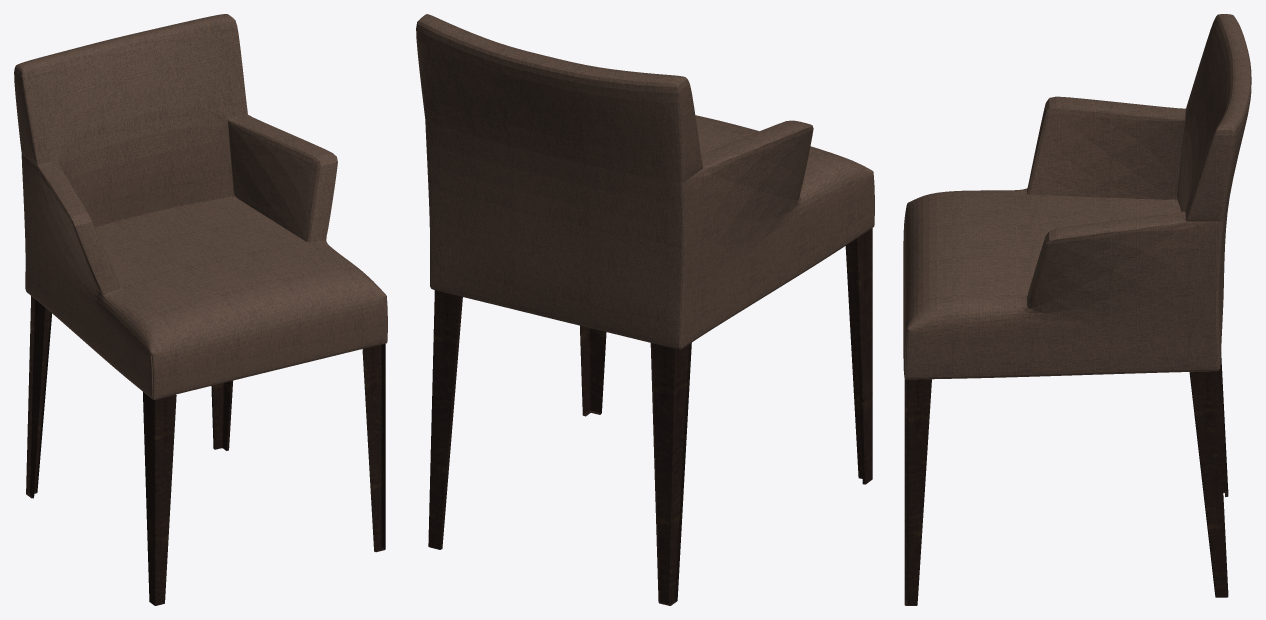
Rendered from chair.obj.
The picture shows the model from 3 angles, left to right: view 1: azimuth 30°, elevation 25°; view 2: azimuth 150°, elevation 25°; view 3: azimuth 270°, elevation 25°; orthographic projection. The views are drawn at different scales.
Visible parts, largest first — view 1: obj_44.001_Untitled.001, obj_47.001_Untitled.004, obj_45.001_Untitled.002, obj_43.001_Untitled.000, obj_46.001_Untitled.003; view 2: obj_44.001_Untitled.001, obj_43.001_Untitled.000, obj_46.001_Untitled.003, obj_47.001_Untitled.004, obj_45.001_Untitled.002; view 3: obj_44.001_Untitled.001, obj_46.001_Untitled.003, obj_45.001_Untitled.002, obj_43.001_Untitled.000.
Boxes of the visible parts, box(x1,y1,x2,y2) form: obj_44.001_Untitled.001: box(14, 14, 387, 399); obj_47.001_Untitled.004: box(143, 392, 176, 605); obj_45.001_Untitled.002: box(362, 344, 385, 552); obj_43.001_Untitled.000: box(26, 296, 51, 498); obj_46.001_Untitled.003: box(211, 380, 232, 450); obj_44.001_Untitled.001: box(416, 14, 874, 349); obj_43.001_Untitled.000: box(650, 342, 691, 605); obj_46.001_Untitled.003: box(428, 290, 462, 549); obj_47.001_Untitled.004: box(845, 228, 872, 484); obj_45.001_Untitled.002: box(580, 325, 606, 416); obj_44.001_Untitled.001: box(903, 14, 1251, 379); obj_46.001_Untitled.003: box(1189, 371, 1228, 597); obj_45.001_Untitled.002: box(904, 379, 931, 605); obj_43.001_Untitled.000: box(1217, 352, 1228, 496).
Bounding box in the file's own units: 51.32 × 79.96 × 53.14.
2 materials, 2 textured.
